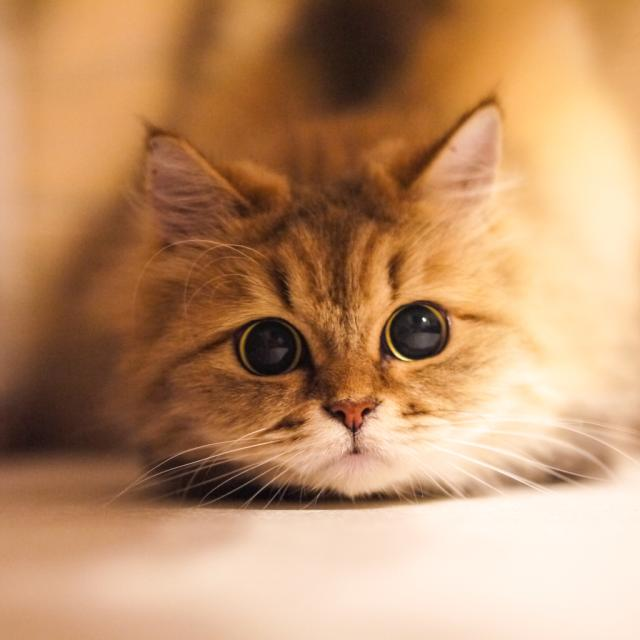Cat: (94, 85, 637, 518)
